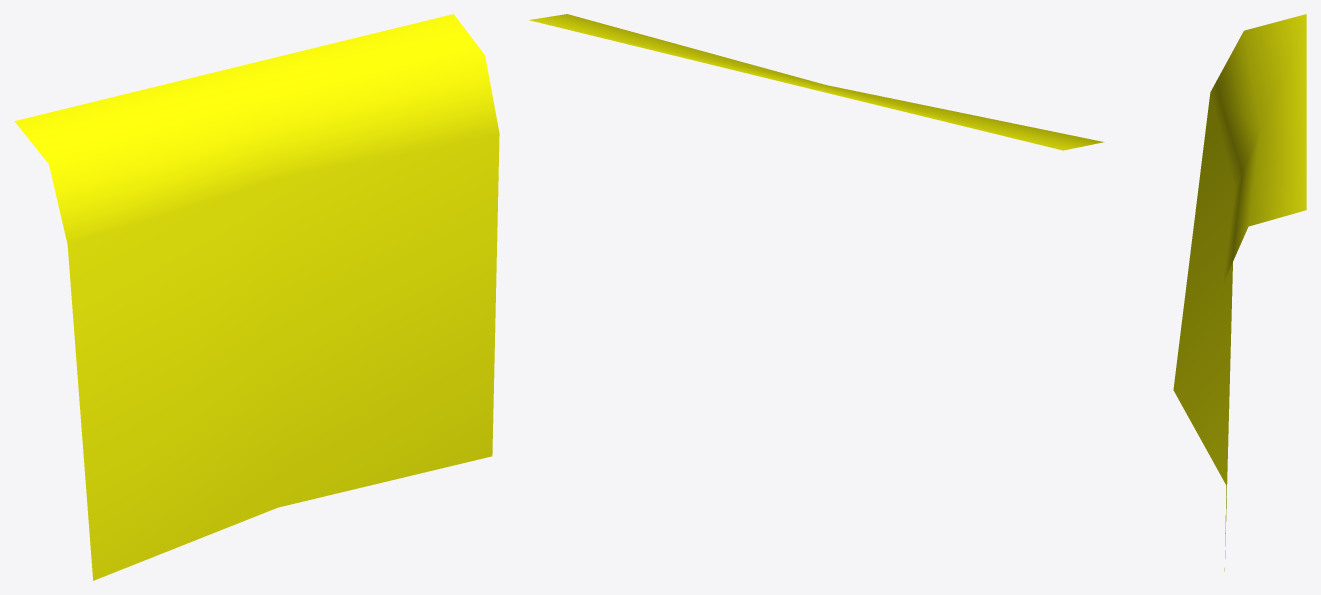
The model's file is Foliage_Ivy_LargeClump1.glb.
3 renders of one model, left to right at view 1: azimuth 30°, elevation 25°; view 2: azimuth 150°, elevation 25°; view 3: azimuth 270°, elevation 25°, orthographic. The views are drawn at different scales.
Visible parts, largest first — view 1: LargeClump; view 2: LargeClump; view 3: LargeClump.
Boxes of the visible parts, <box> form: LargeClump: <box>14,14,499,580</box>; LargeClump: <box>529,14,1104,150</box>; LargeClump: <box>1173,14,1306,571</box>.
Bounding box in the file's own units: 0.7532 × 0.6686 × 0.216.
Materials: 1 (1 with a texture image).
